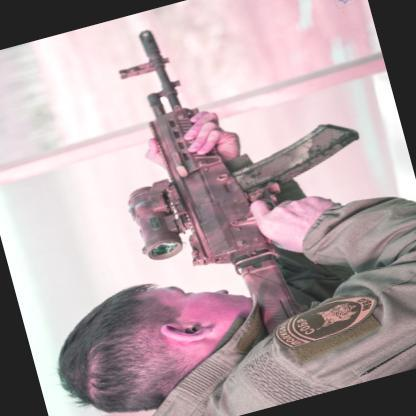rifle: (82, 0, 403, 368)
